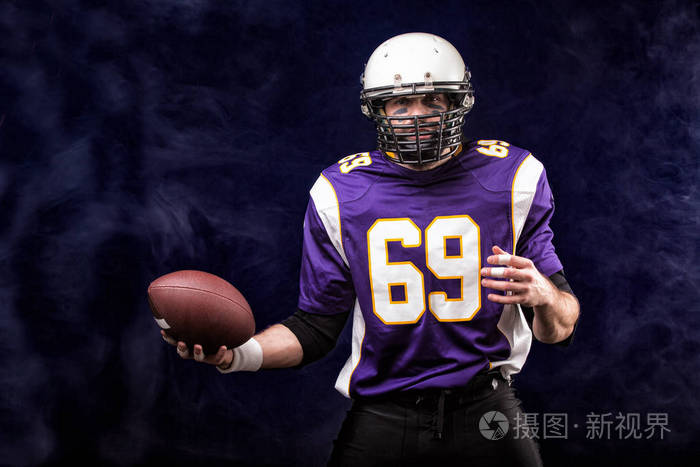no-phone: (146, 268, 257, 369)
